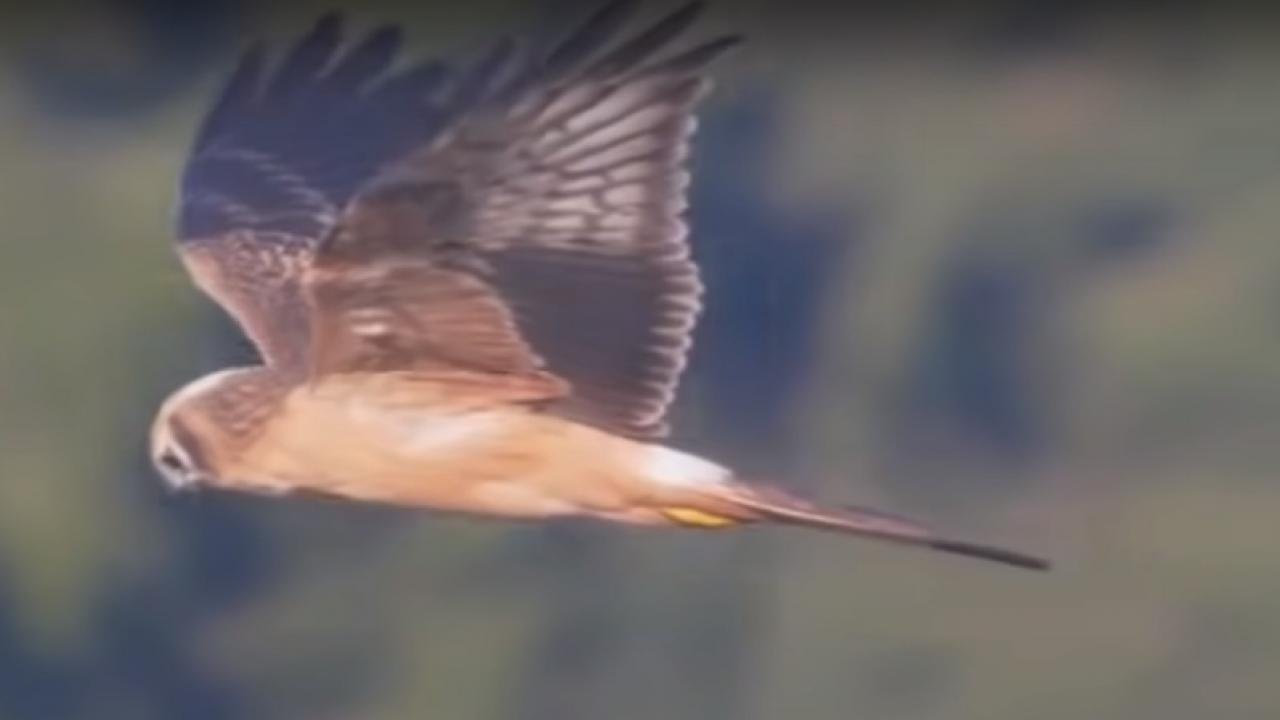Bird: (127, 0, 1074, 584)
